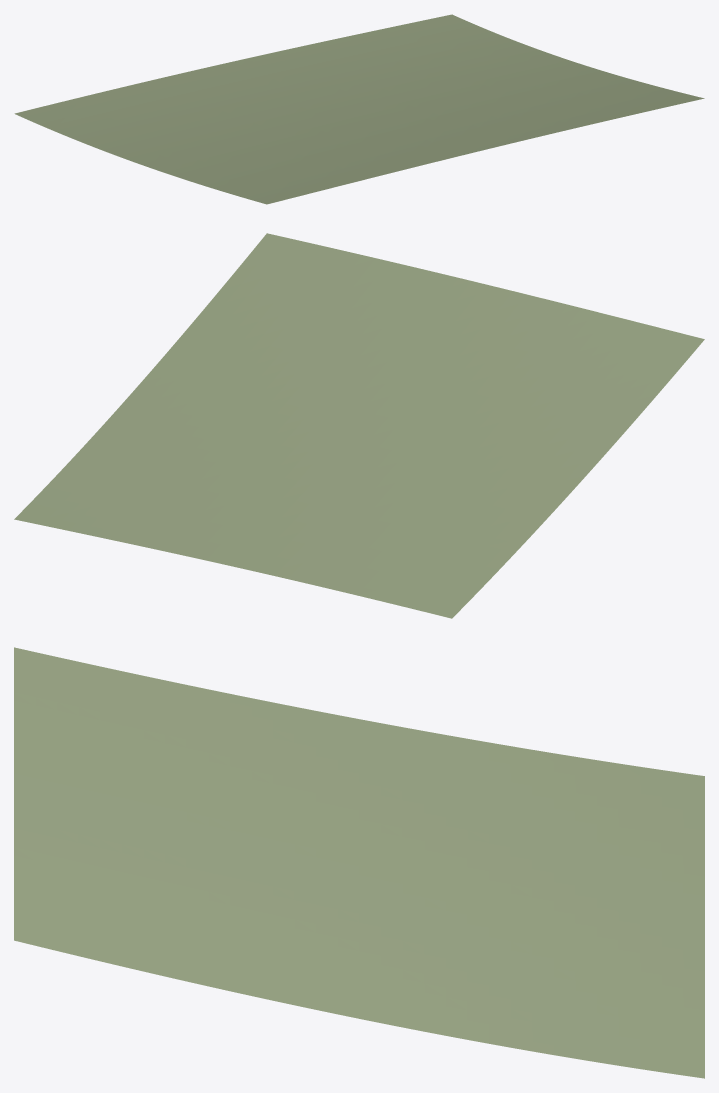
The model's file is expanse-31-4.glb.
The picture shows the model from 3 angles, top to bottom: view 1: azimuth 30°, elevation 25°; view 2: azimuth 150°, elevation 25°; view 3: azimuth 270°, elevation 25°; orthographic projection. The views are drawn at different scales.
Parts seen in each view (by area): view 1: expanse-31-4; view 2: expanse-31-4; view 3: expanse-31-4.
Boxes of the visible parts, x1=… form: expanse-31-4: x1=14, y1=14, x2=704, y2=204; expanse-31-4: x1=14, y1=233, x2=704, y2=618; expanse-31-4: x1=14, y1=647, x2=704, y2=1078.
Bounding box in the file's own units: 256 × 57.72 × 256.
